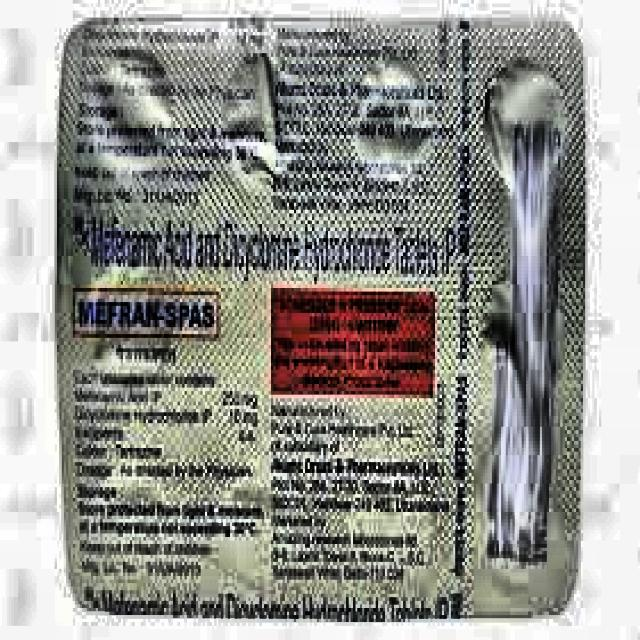Meftal: (75, 283, 232, 359)
